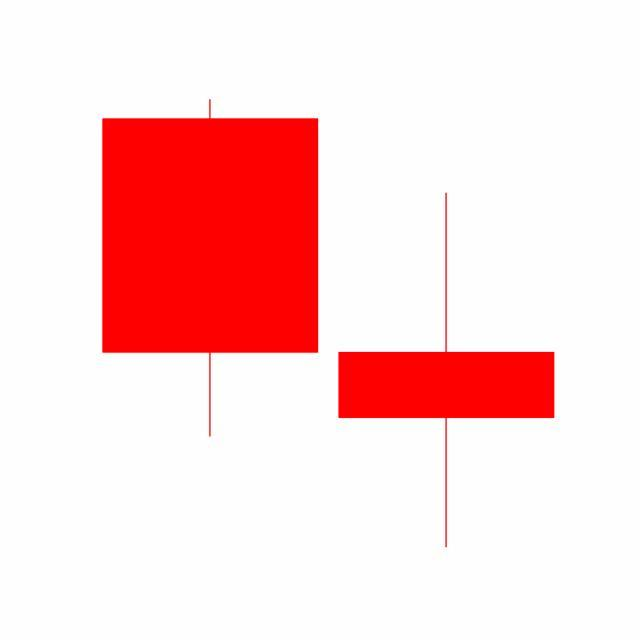Spinning Top: (328, 189, 566, 552)
